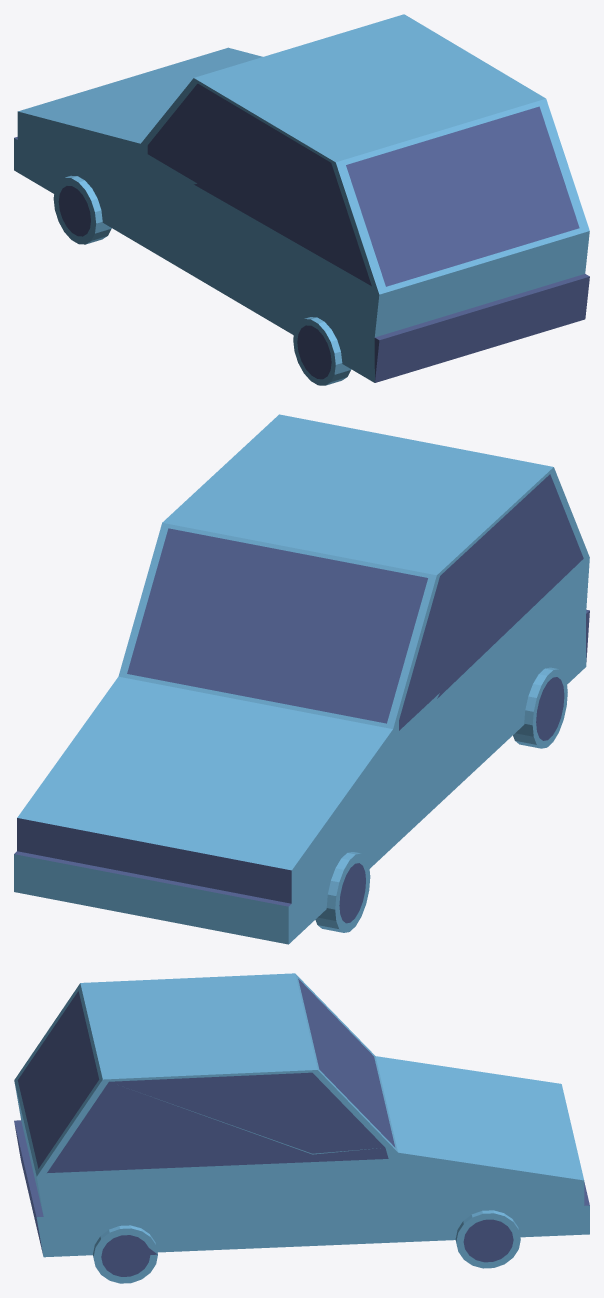
File: car.glb
3 views of the same model, one above another, from view 1: azimuth 30°, elevation 25°; view 2: azimuth 150°, elevation 25°; view 3: azimuth 270°, elevation 25° (orthographic). The views are drawn at different scales.
Parts seen in each view (by area): view 1: CAR_03_3; view 2: CAR_03_3; view 3: CAR_03_3.
Boxes of the visible parts, x1,y1,x2,y2 form: CAR_03_3: (14,14,589,385); CAR_03_3: (14,414,589,944); CAR_03_3: (14,973,589,1283).
Bounding box in the file's own units: 0.7684 × 0.6023 × 1.55.
